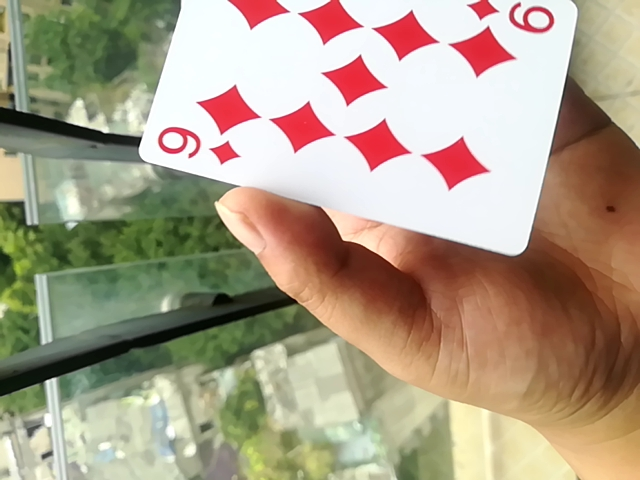fk 9: (133, 0, 592, 263)
